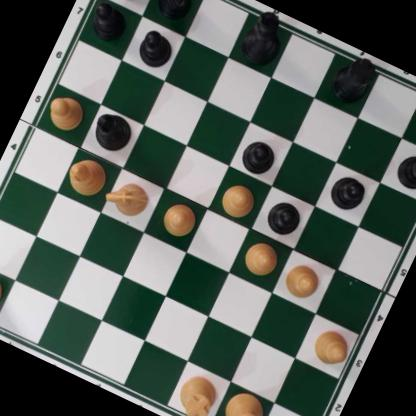black-bishop: (88, 107, 138, 157)
black-king: (234, 6, 295, 73)
black-knight: (146, 0, 203, 22)
black-pawn: (84, 0, 133, 45), (237, 132, 282, 179), (133, 24, 178, 71), (262, 194, 307, 240), (325, 169, 370, 215), (392, 147, 416, 196)
black-rook: (325, 48, 381, 109), (99, 0, 163, 4)
white-bishop: (63, 152, 112, 200)
white-king: (214, 385, 275, 416)
white-knight: (102, 173, 154, 224)
white-pawn: (306, 323, 355, 371), (279, 257, 325, 304), (214, 177, 261, 222), (43, 90, 90, 135), (239, 235, 284, 280), (157, 198, 200, 241)
white-rook: (172, 371, 223, 416), (0, 262, 9, 321)
